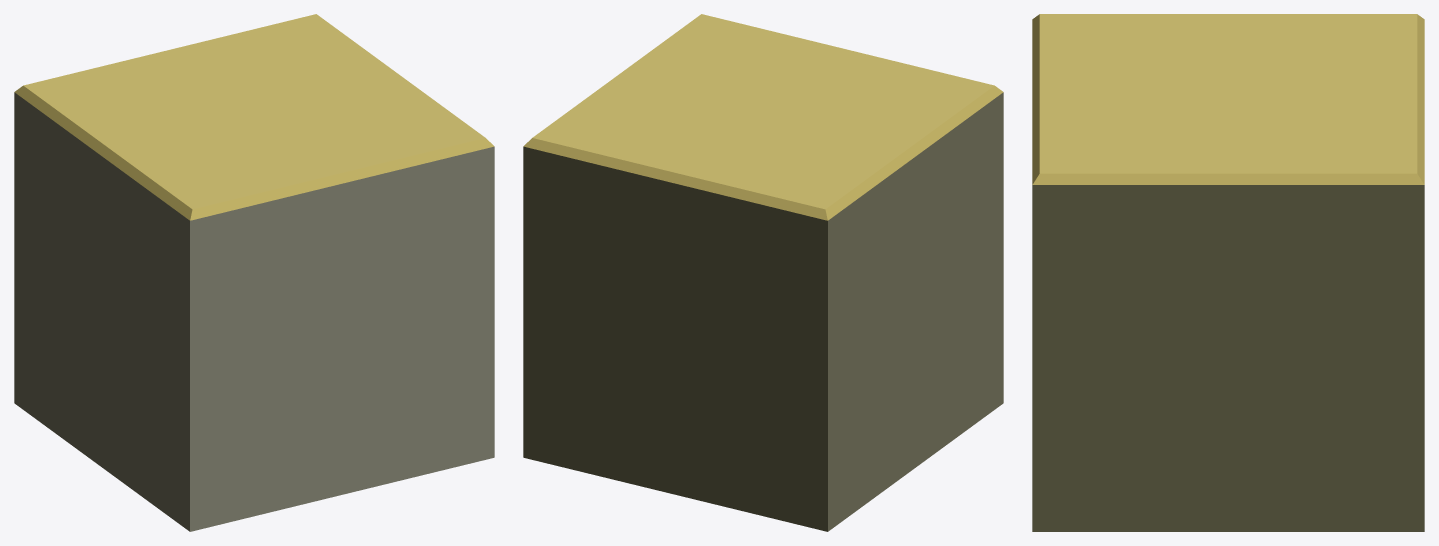
Rendered from sand cube.FBX.
3 renders of one model, left to right at view 1: azimuth 30°, elevation 25°; view 2: azimuth 150°, elevation 25°; view 3: azimuth 270°, elevation 25°, orthographic. The views are drawn at different scales.
Visible parts, largest first — view 1: sand cube; view 2: sand cube; view 3: sand cube.
Part boxes in pixels (box(x1,y1,x2,y2)): sand cube: box(14, 14, 494, 531); sand cube: box(523, 14, 1003, 531); sand cube: box(1032, 14, 1424, 531).
Bounding box in the file's own units: 100 × 100 × 100.
